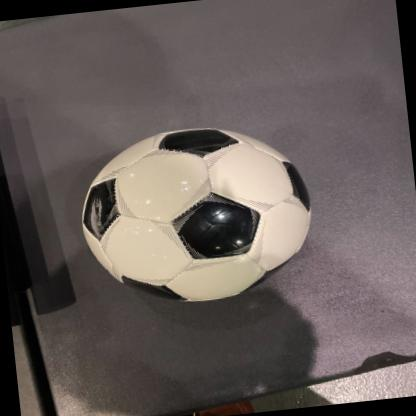ball: (78, 118, 322, 314)
